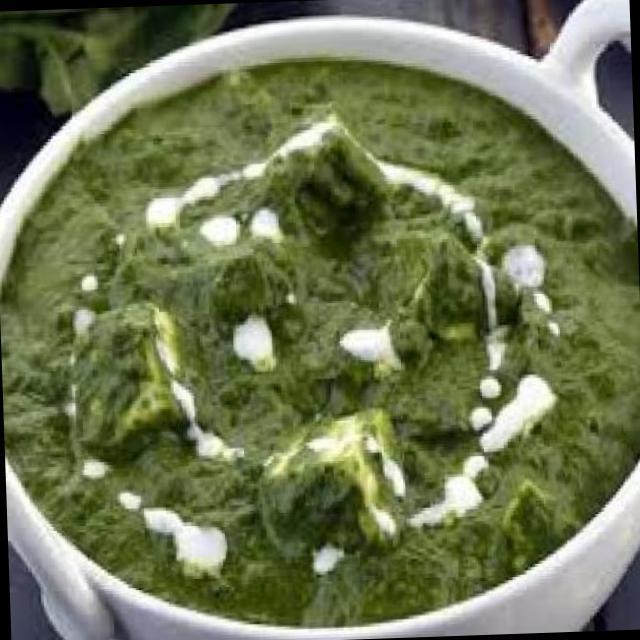palak_paneer: (0, 46, 640, 637)
